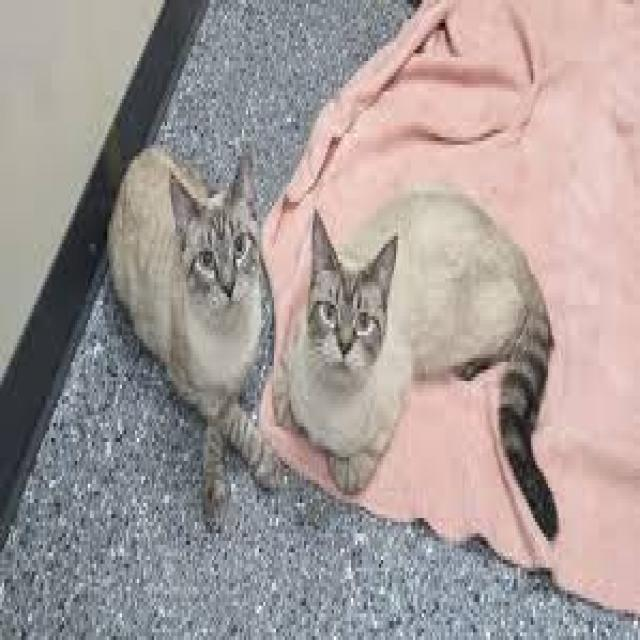Cat: (272, 182, 563, 547), (105, 137, 285, 534)
